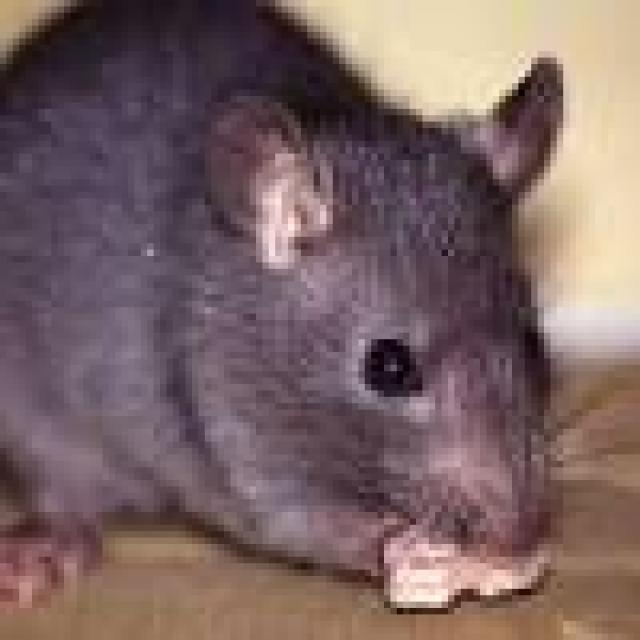rat: (0, 0, 602, 640)
